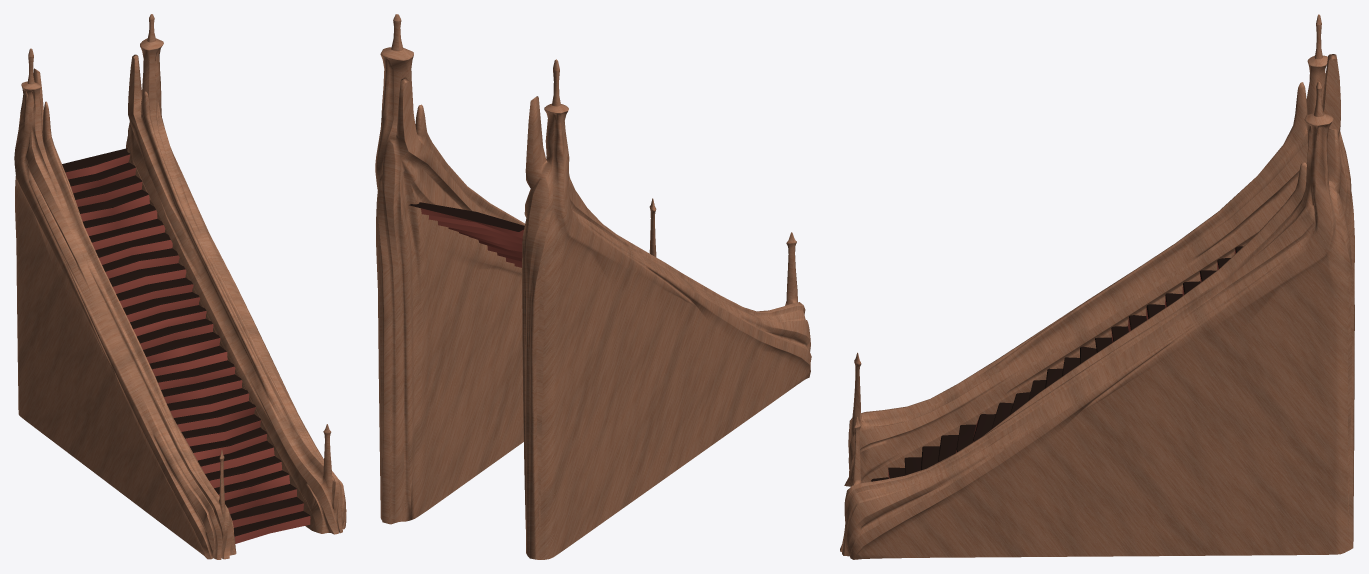
The model's file is Geonosis_StairStraight02.fbx.
3 views of the same model, side by side, from view 1: azimuth 30°, elevation 25°; view 2: azimuth 150°, elevation 25°; view 3: azimuth 270°, elevation 25° (orthographic). The views are drawn at different scales.
Parts seen in each view (by area): view 1: StraightStair001; view 2: StraightStair001; view 3: StraightStair001.
Boxes of the visible parts, x1,y1,x2,y2 form: StraightStair001: (14,14,346,559); StraightStair001: (375,14,811,559); StraightStair001: (840,14,1354,559).
Bounding box in the file's own units: 349 × 870 × 856.
